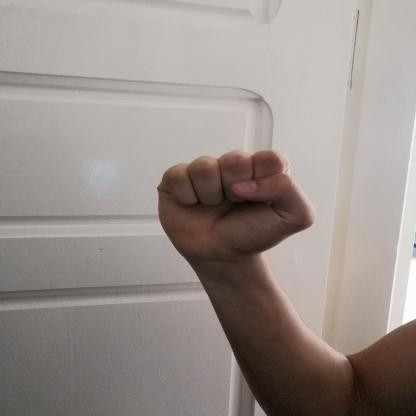SAD: (136, 136, 333, 278)
